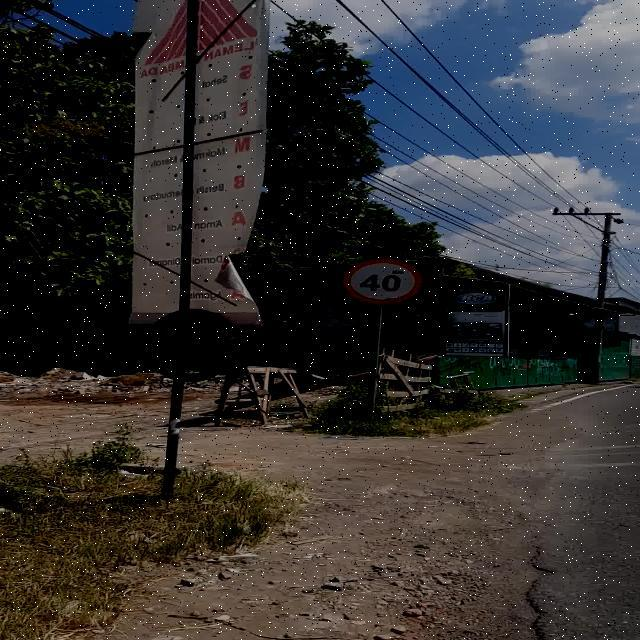Kecepatan Maks. 40 km: (340, 258, 424, 305)
